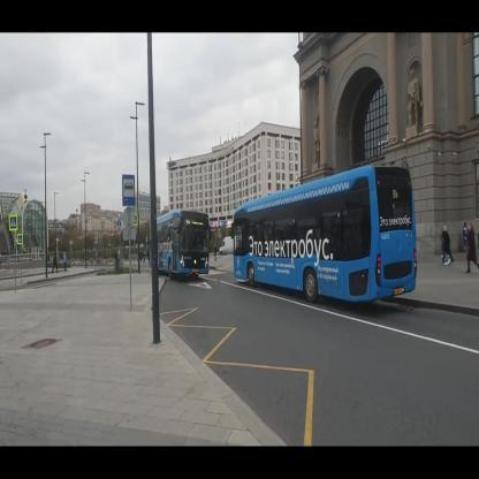bus: (228, 165, 420, 306), (156, 211, 212, 280)
